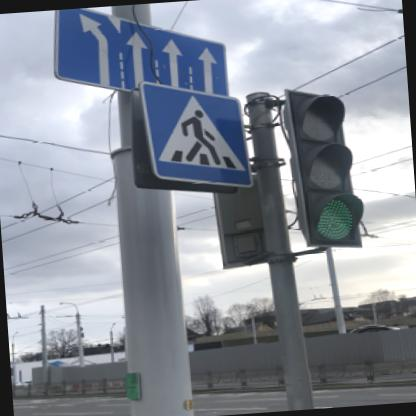crosswalk: (140, 72, 254, 192)
trafficlight: (284, 84, 370, 252)
